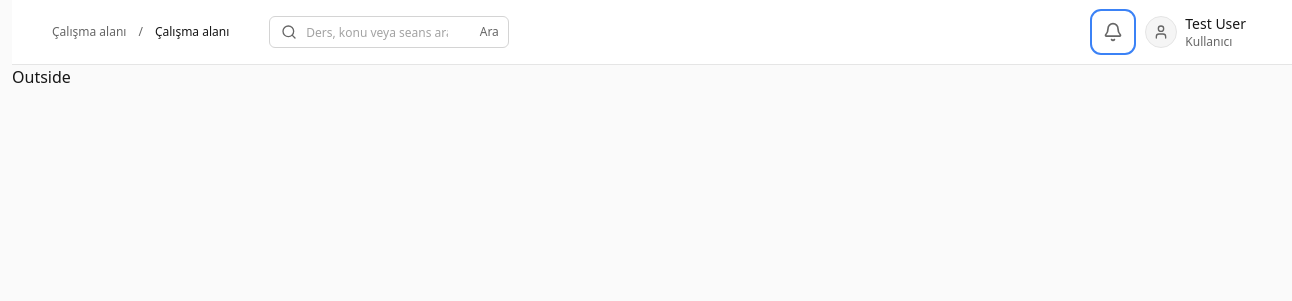
Test: rejects a missing sessions payload instead of reporting no notifications
The image size is (1292, 301).
Click the button named "Bildirimler". click: (1113, 32)
box: [1095,14,1131,50]
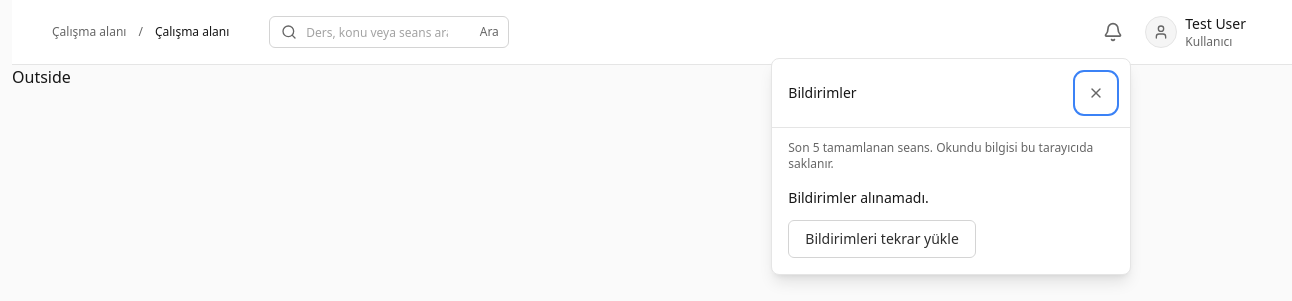
Expected: the text "Bildirimler alınamadı." is shown, [788,188,929,207]
